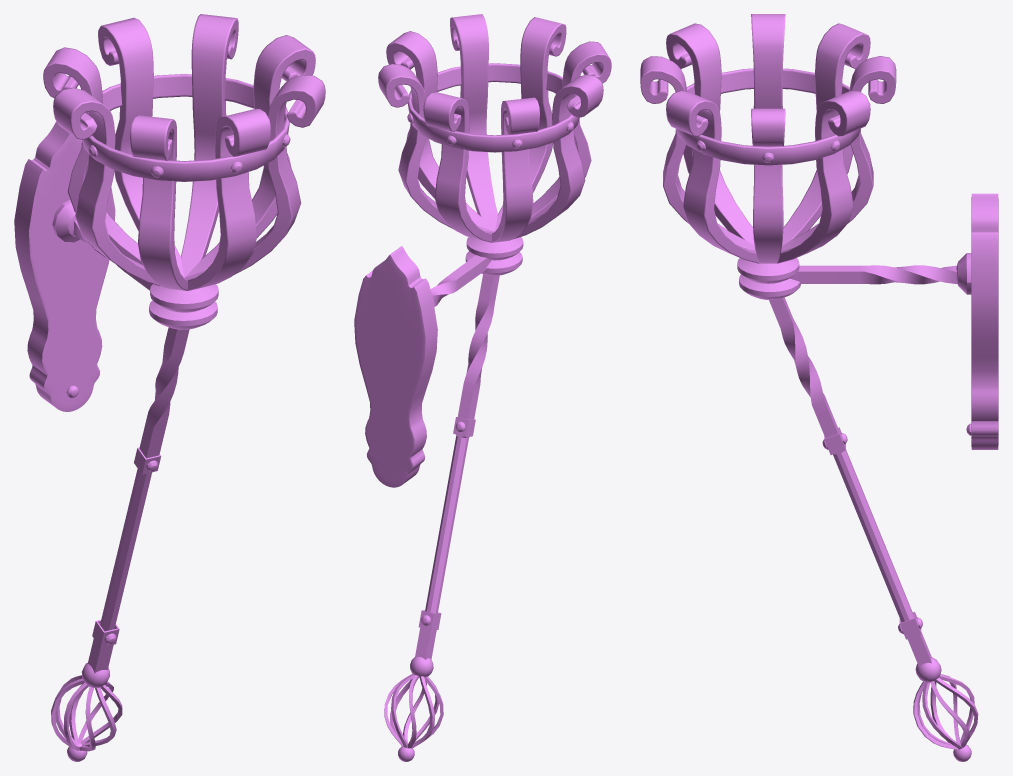
The model's file is SM_CastleLight_A_001.FBX.
3 renders of one model, left to right at view 1: azimuth 30°, elevation 25°; view 2: azimuth 150°, elevation 25°; view 3: azimuth 270°, elevation 25°, orthographic. The views are drawn at different scales.
Parts seen in each view (by area): view 1: SM_CastleLight_A_001; view 2: SM_CastleLight_A_001; view 3: SM_CastleLight_A_001.
Boxes of the visible parts, box(x1,y1,x2,y2) form: SM_CastleLight_A_001: box(14, 14, 325, 761); SM_CastleLight_A_001: box(354, 14, 611, 761); SM_CastleLight_A_001: box(640, 14, 998, 761).
Size of the model in its own units: 66.51 by 200 by 93.13.
